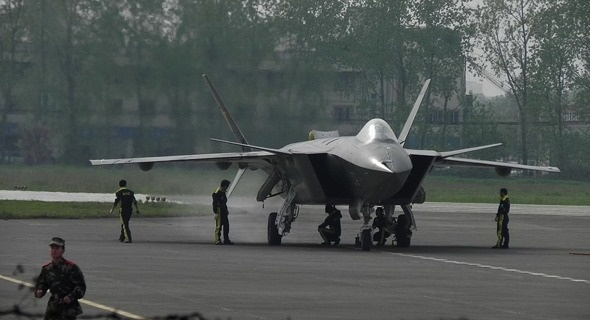J20: (87, 71, 562, 252)
